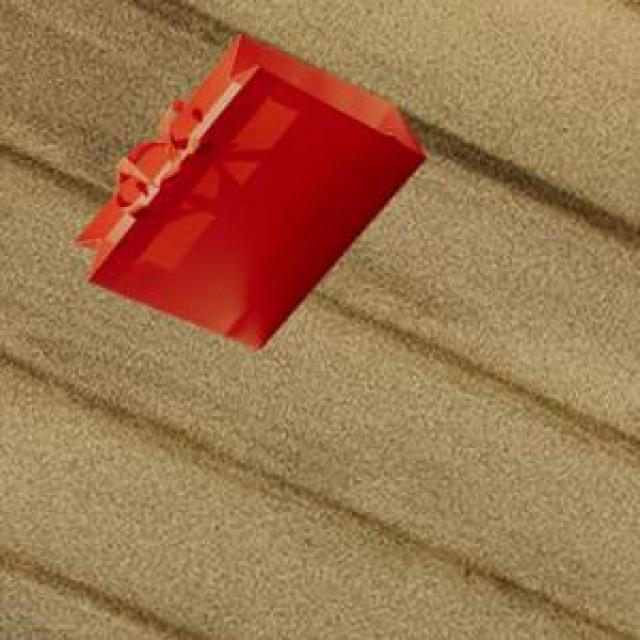paper: (70, 30, 422, 346)
